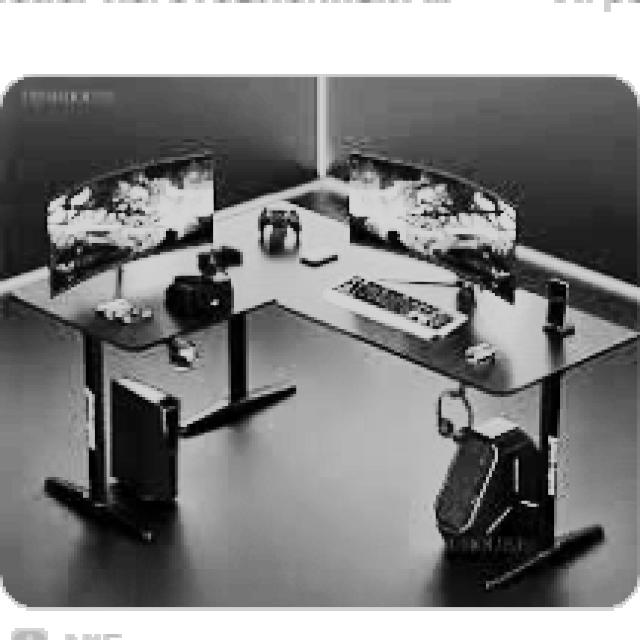table: (0, 178, 637, 601)
